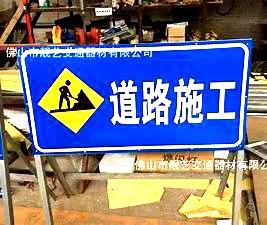sign: (19, 48, 244, 151)
